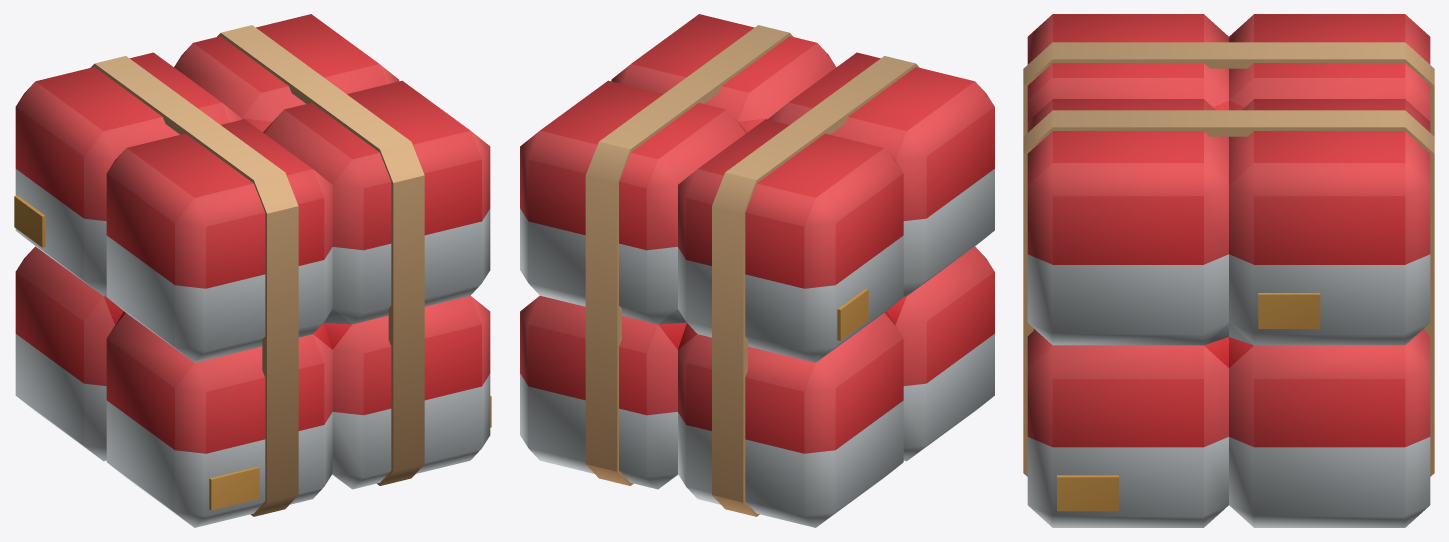
Rendered from cargo_a_stacked.glb.
The picture shows the model from 3 angles, left to right: view 1: azimuth 30°, elevation 25°; view 2: azimuth 150°, elevation 25°; view 3: azimuth 270°, elevation 25°; orthographic projection. The views are drawn at different scales.
Parts seen in each view (by area): view 1: cargo_A_stacked; view 2: cargo_A_stacked; view 3: cargo_A_stacked.
Part boxes in pixels (left/top/right/bottom): cargo_A_stacked: left=14, top=14, right=491, bottom=527; cargo_A_stacked: left=520, top=14, right=994, bottom=527; cargo_A_stacked: left=1023, top=14, right=1434, bottom=527.
Bounding box in the file's own units: 3.06 × 3.06 × 3.06.
1 material, 1 textured.
